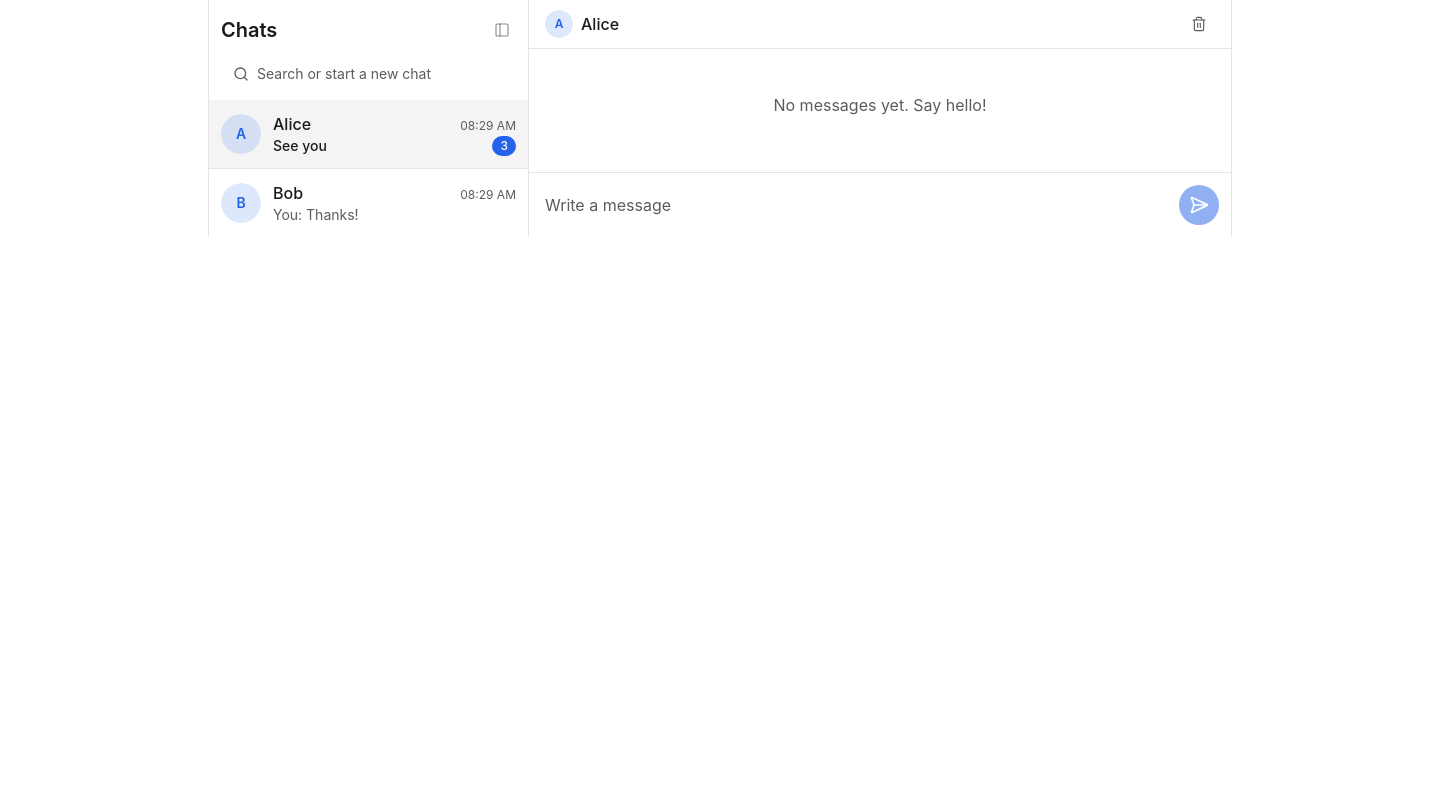
it: delete chat › asks for confirmation, then removes the chat and closes it
Expected: the element named "Chat with Alice" is shown, left=529, top=0, right=1231, bottom=237
Click the button named "Delete chat" at (1199, 24), box left=1183, top=8, right=1215, bottom=40
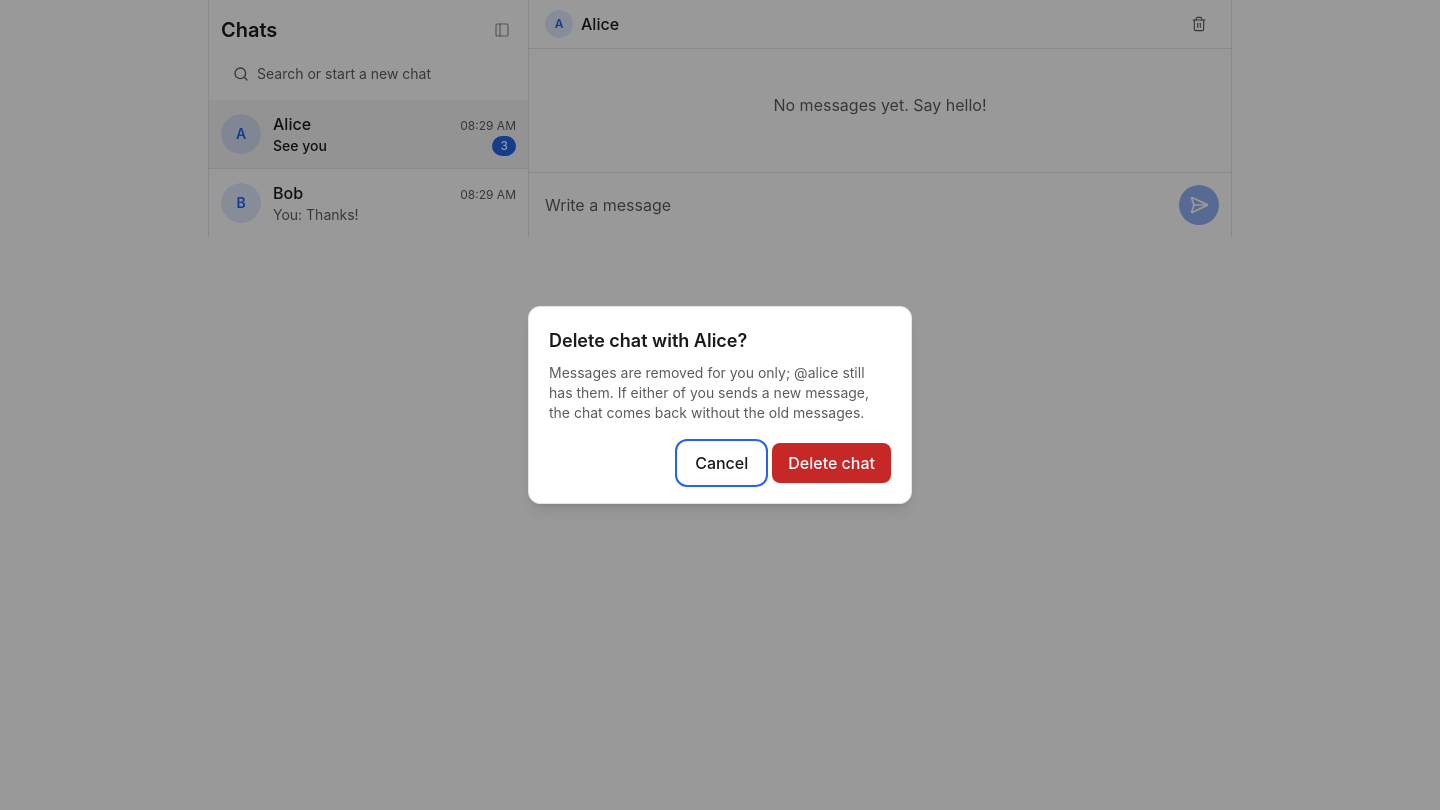
Now the dialog "Delete chat with Alice?" shows "@alice still has them", box left=528, top=306, right=912, bottom=504
Click the button "Delete chat" at (832, 463), box left=772, top=443, right=891, bottom=483
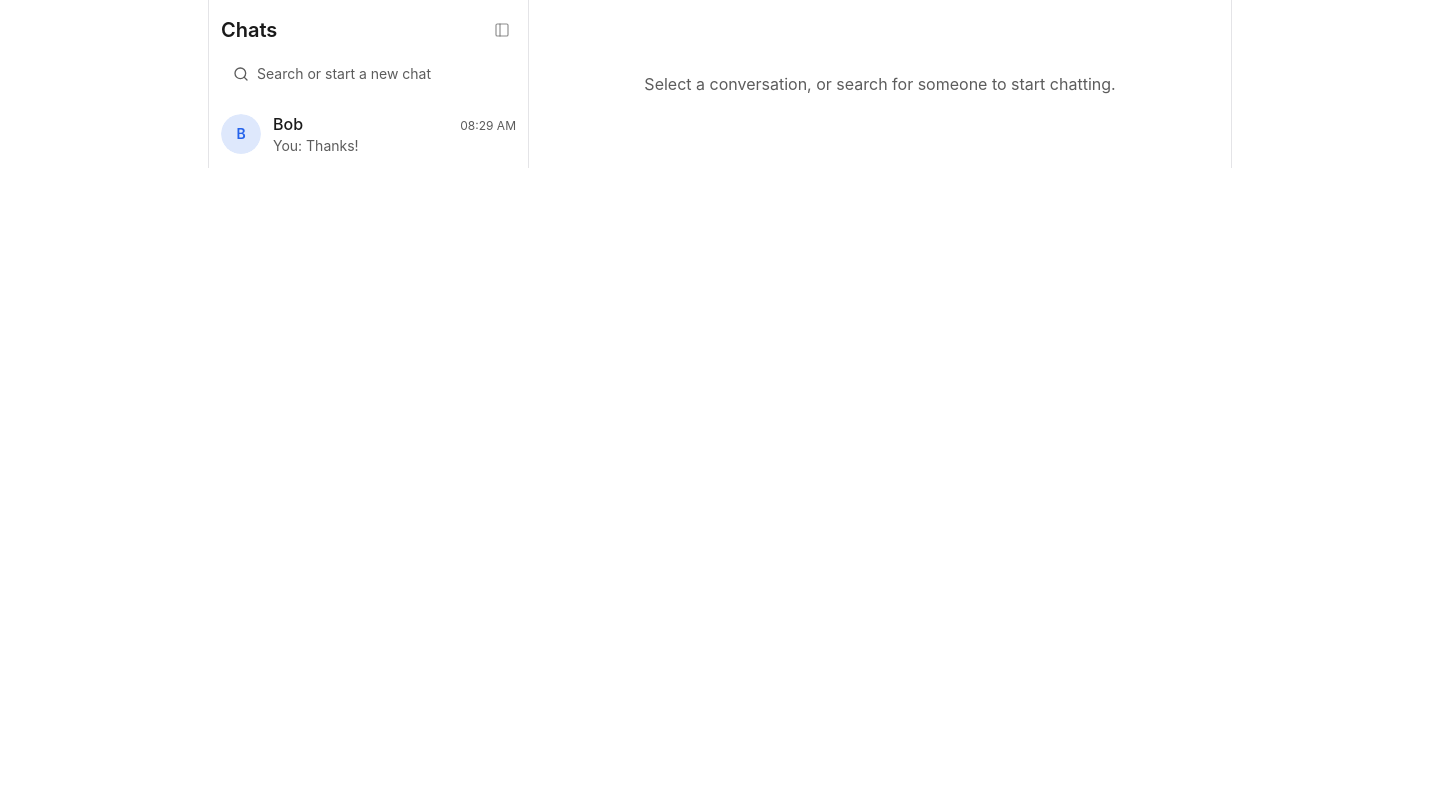
Expected: the button "B Bob 08:29 AM You: Thanks!" is shown, left=209, top=100, right=528, bottom=168
Now the text "Select a conversation" is shown, box left=644, top=74, right=1116, bottom=94
Now the button "Alice" is gone
